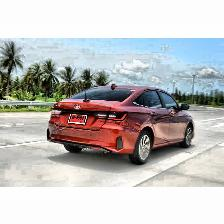NON-EV: (47, 80, 197, 168)
